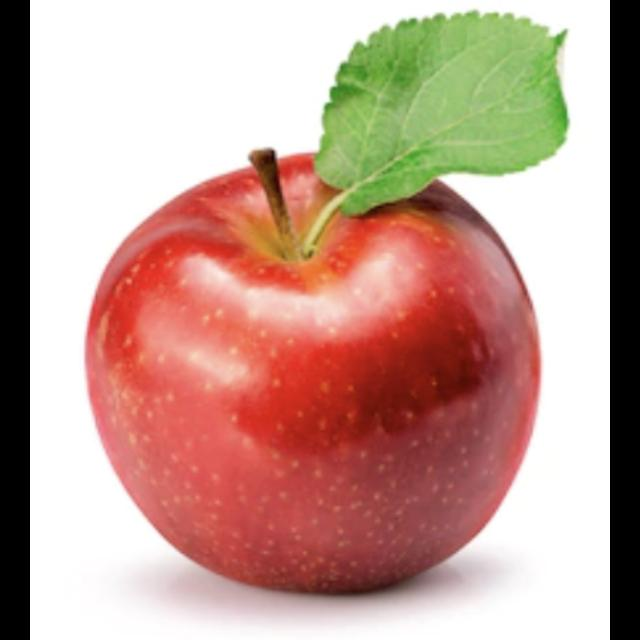Apel Segar: (82, 150, 541, 598)
